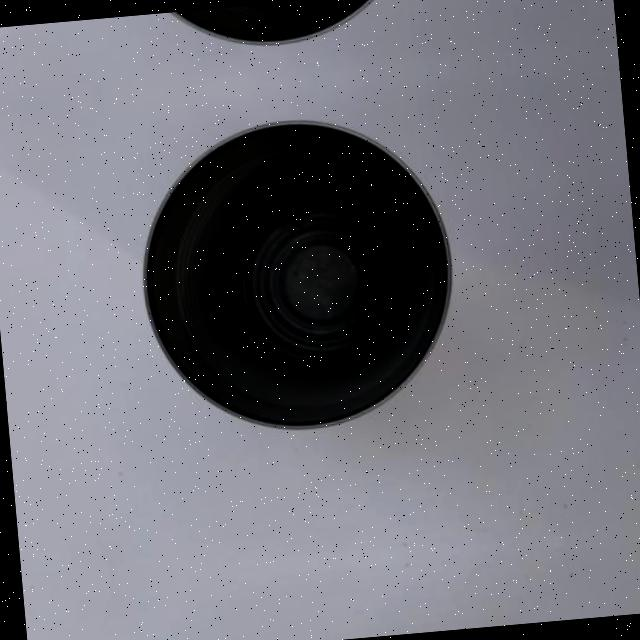Metal: (88, 91, 490, 458), (78, 0, 456, 73)
